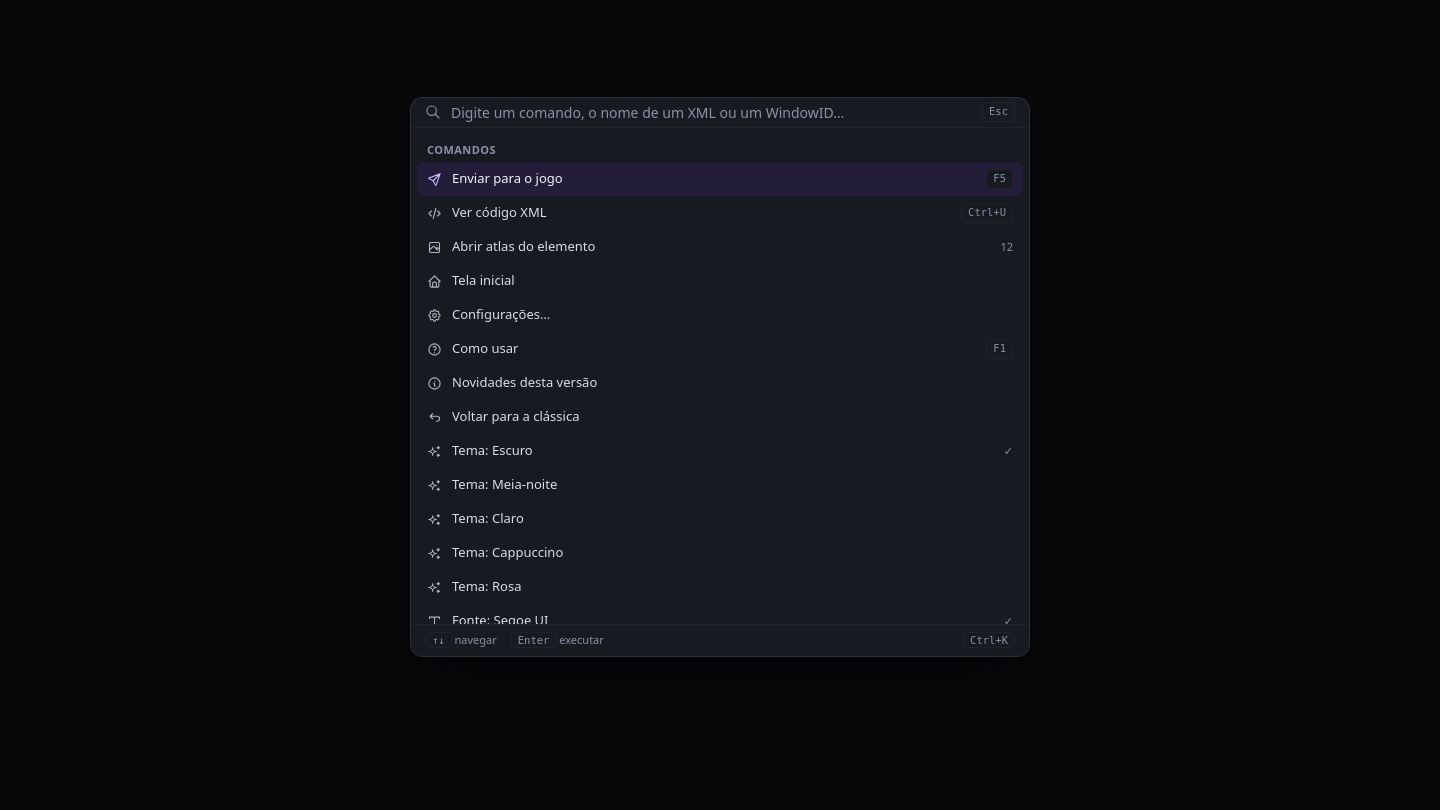
paleta de comandos › seleciona elemento pelo WindowID e abre XML pelo nome
Earlier steps of the test are not shown.
Later steps or results of the test are not shown.
Expected: the dialog with test id "command-palette" is shown, [410,97,1030,657]
Type "Inventory" into the dropdown with test id "command-input" at x=712, y=112, box [451,98,972,126]
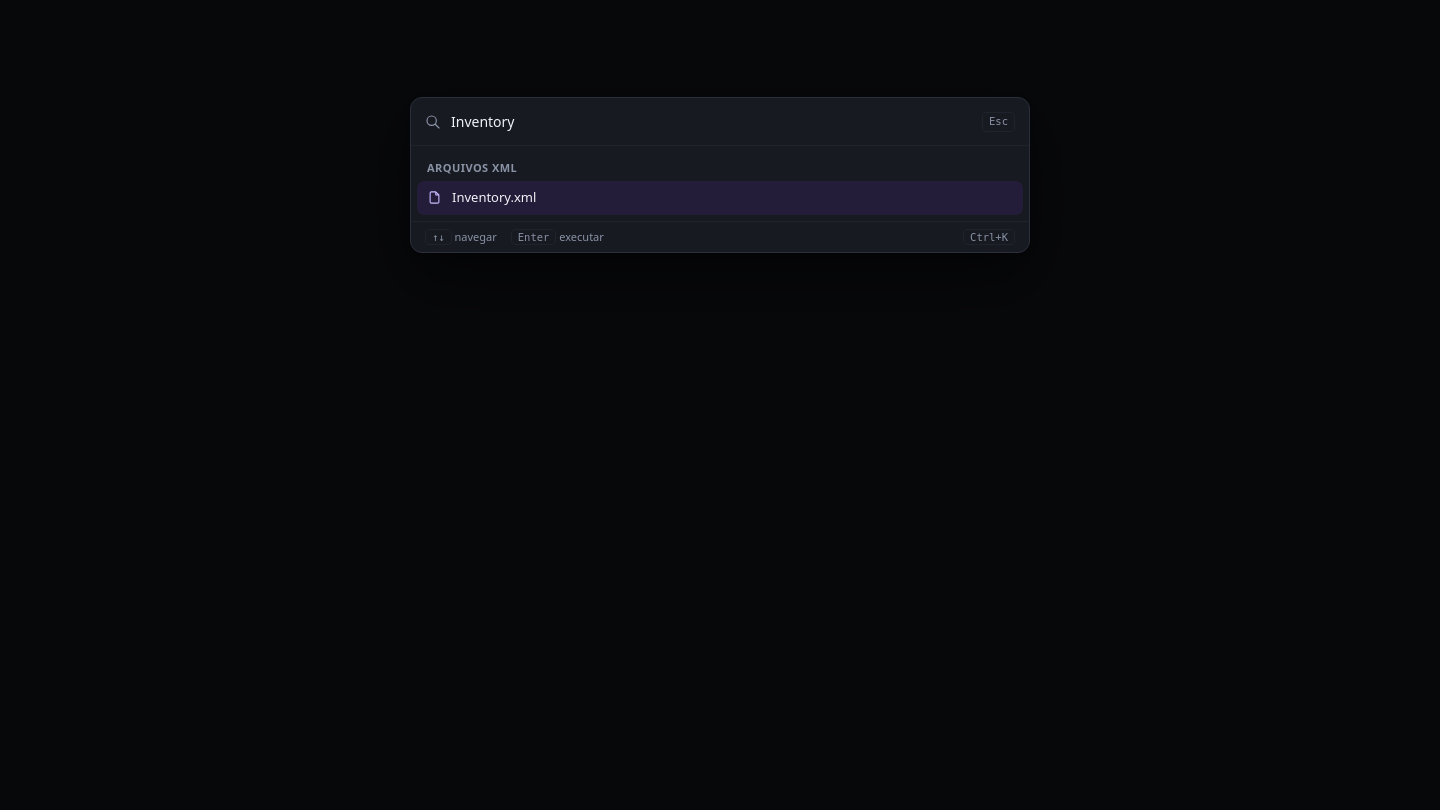
Expected: the text "Inventory.xml" is shown, [452,188,536,206]
